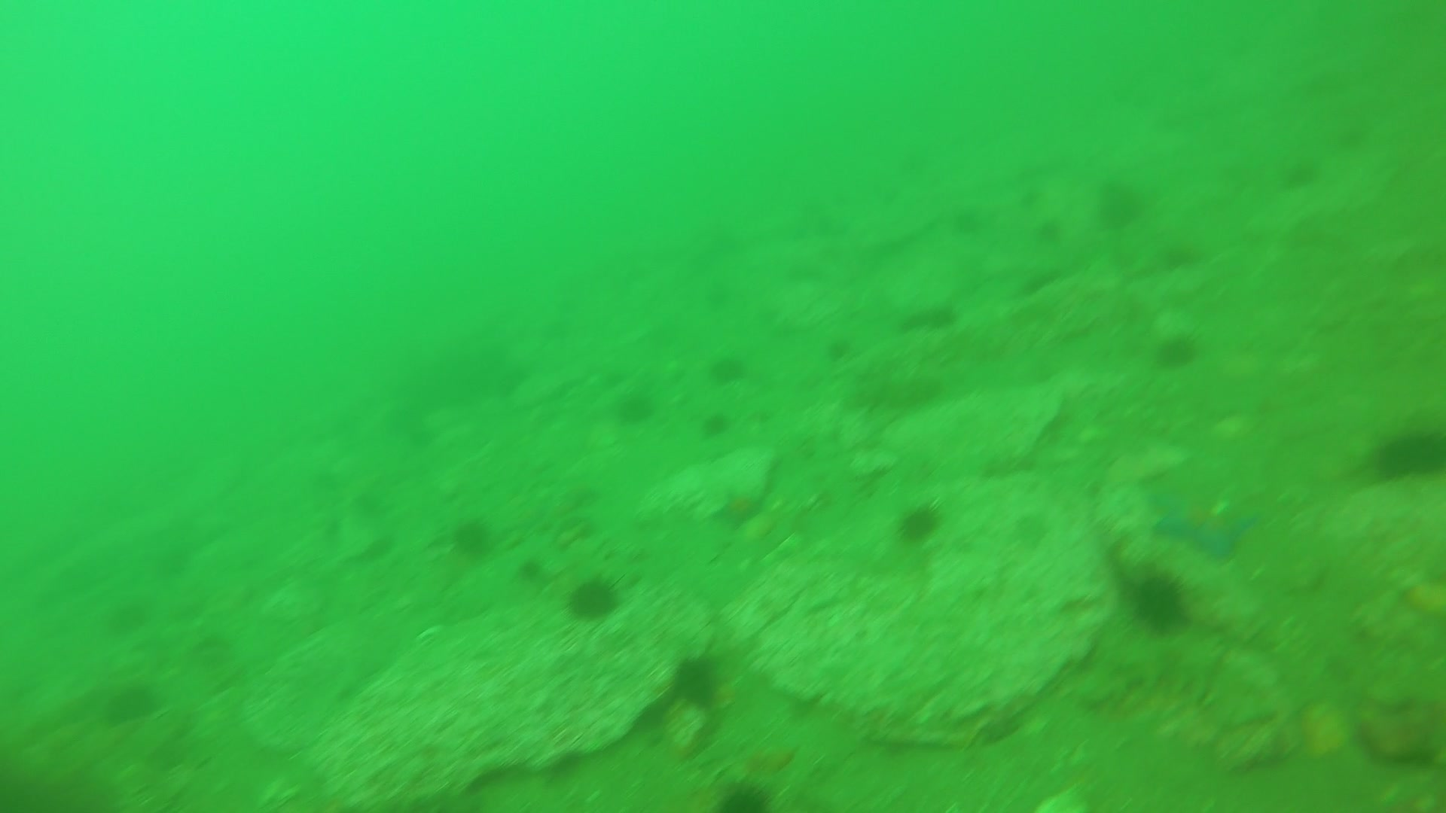echinus: (833, 352, 942, 413)
starfish: (1365, 419, 1446, 490), (1119, 569, 1194, 642), (667, 659, 733, 715), (447, 516, 503, 563), (709, 772, 766, 813), (565, 579, 624, 616), (612, 394, 670, 431), (1148, 333, 1194, 376), (1098, 190, 1141, 236), (703, 359, 749, 390), (895, 505, 932, 538)
